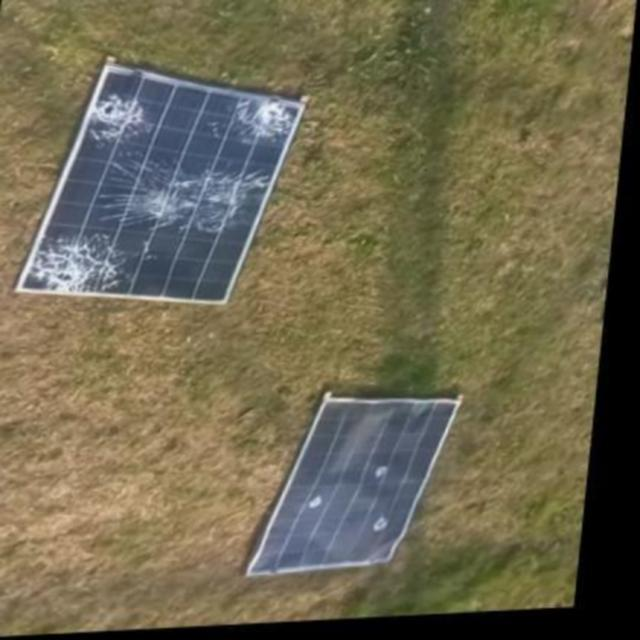cracked: (22, 62, 304, 317)
soiled: (252, 392, 464, 580)
